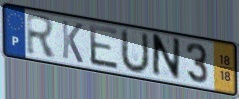3: (185, 42, 211, 85)
E: (87, 23, 121, 73)
K: (60, 18, 84, 65)
N: (150, 33, 182, 83)
R: (25, 11, 58, 60)
U: (119, 27, 152, 76)
